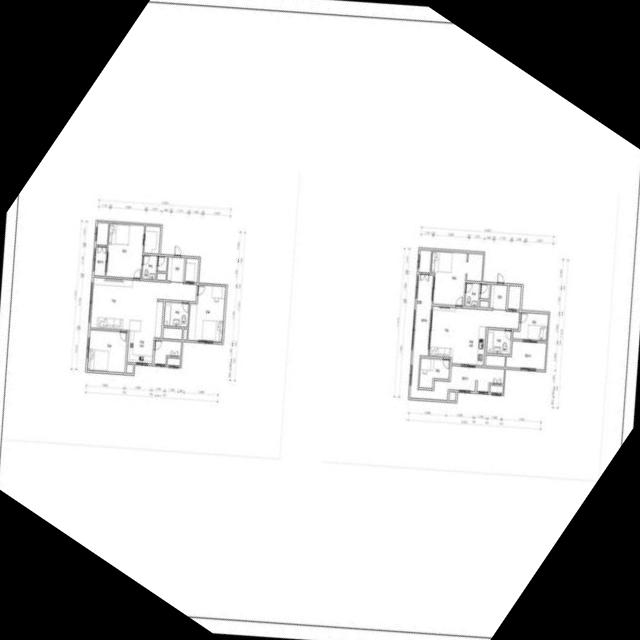background: (0, 0, 640, 640)
space_balconi: (410, 275, 504, 400), (506, 341, 546, 370), (94, 247, 107, 276)
space_bedroom: (188, 285, 226, 342), (106, 223, 144, 279), (431, 251, 467, 306), (87, 330, 128, 373), (513, 312, 548, 341), (419, 358, 450, 388)
space_dressroom: (466, 253, 483, 282), (144, 226, 161, 254)
space_front: (167, 257, 185, 284), (490, 284, 508, 311)
space_kitchen: (127, 297, 164, 364), (452, 325, 486, 366)
space_living_room: (90, 278, 197, 330), (429, 306, 520, 358)
space_other: (154, 340, 181, 365), (185, 258, 199, 282), (508, 286, 521, 310), (419, 250, 431, 273), (96, 222, 108, 245), (485, 355, 505, 367), (163, 328, 182, 339), (480, 284, 490, 299), (158, 256, 167, 272), (490, 385, 503, 393), (167, 358, 180, 366), (480, 301, 489, 308), (449, 392, 456, 401), (157, 273, 166, 280), (126, 365, 133, 373), (183, 329, 187, 340)
space_toilet: (164, 302, 189, 327), (486, 330, 511, 355), (142, 255, 157, 280), (465, 283, 480, 307)
